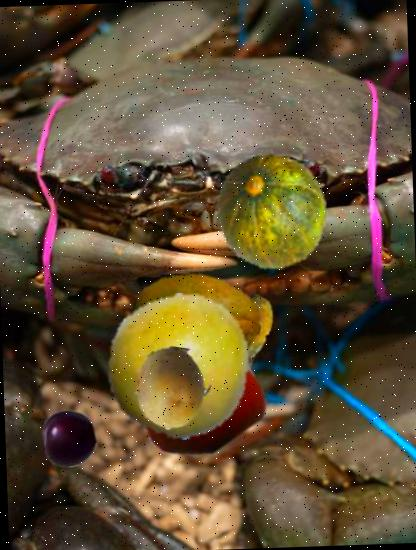Cactus: (209, 292, 292, 375)
Cherry: (40, 409, 100, 469)
Maracuja: (102, 290, 254, 442)
Melon: (209, 148, 335, 274)
Nut: (134, 336, 262, 463)
Papaya: (122, 257, 262, 397)
Potato: (131, 346, 216, 432)
